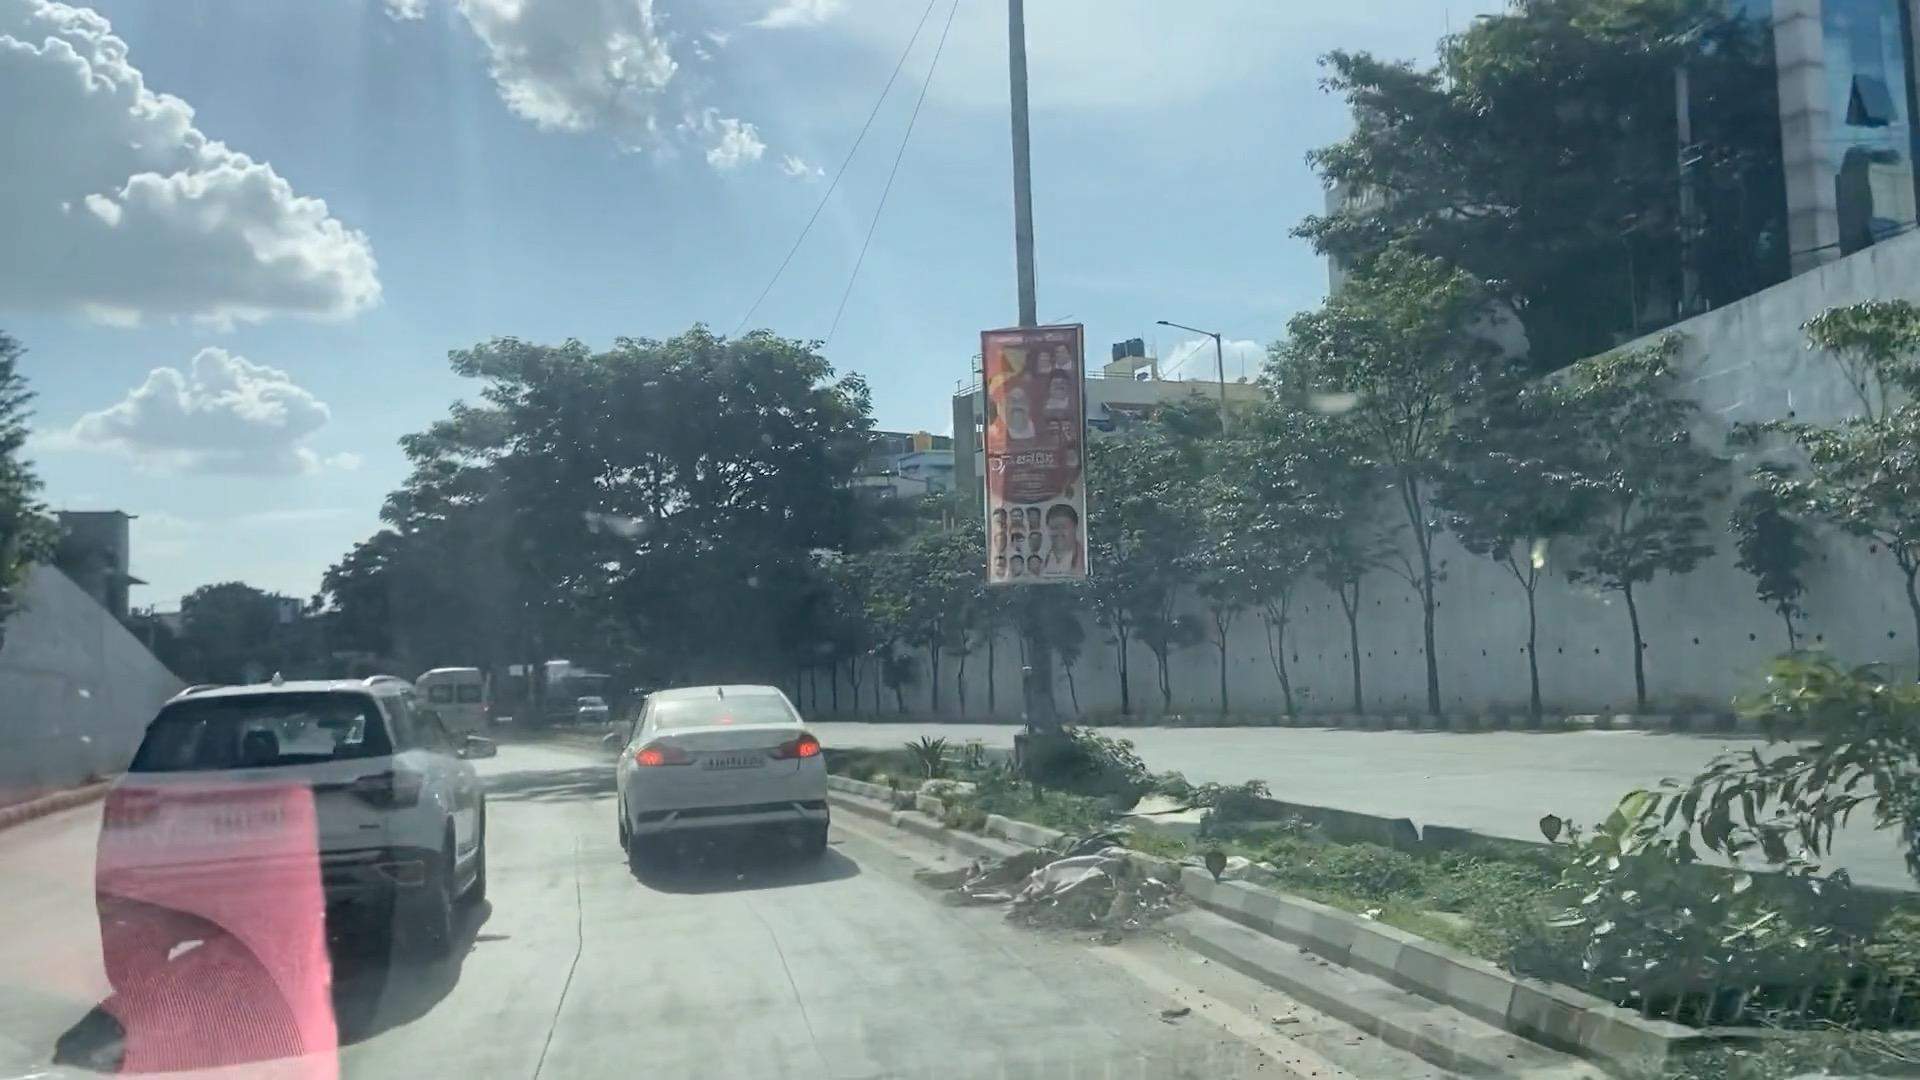LMV: (98, 695, 488, 940), (633, 678, 825, 837)
